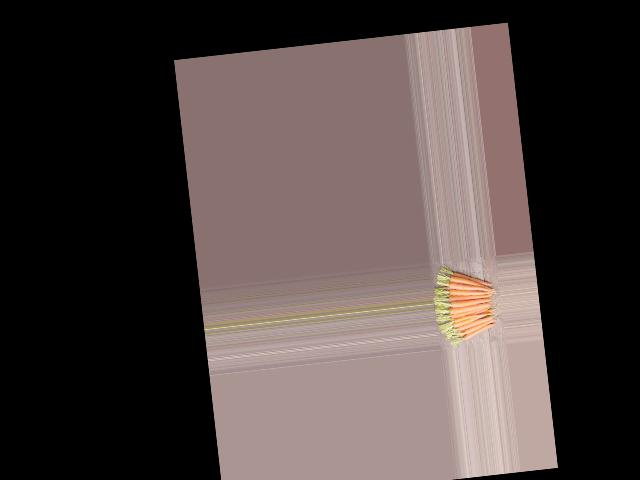carrot: (462, 330, 496, 340)
